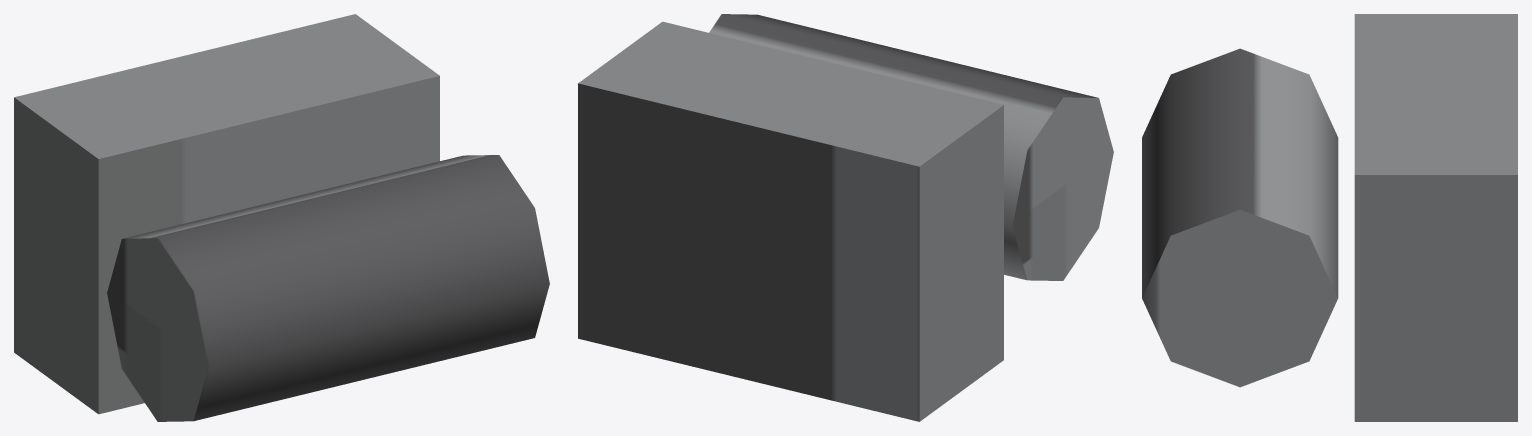
The picture shows the model from 3 angles, left to right: view 1: azimuth 30°, elevation 25°; view 2: azimuth 150°, elevation 25°; view 3: azimuth 270°, elevation 25°; orthographic projection. The views are drawn at different scales.
Bounding box in the file's own units: 0.035 × 0.025 × 0.0345.
